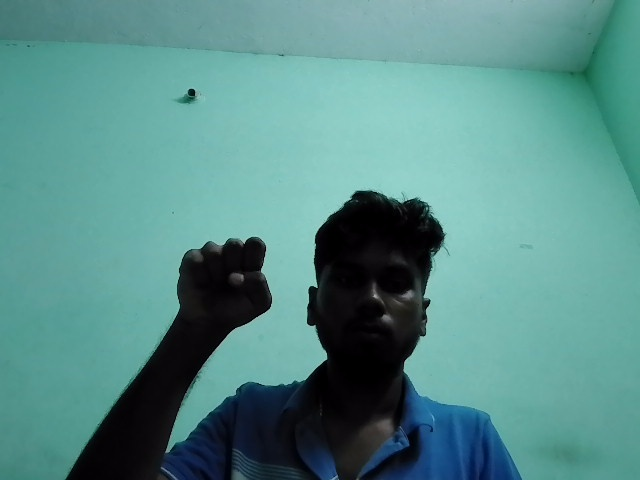Yes: (152, 221, 297, 353)
